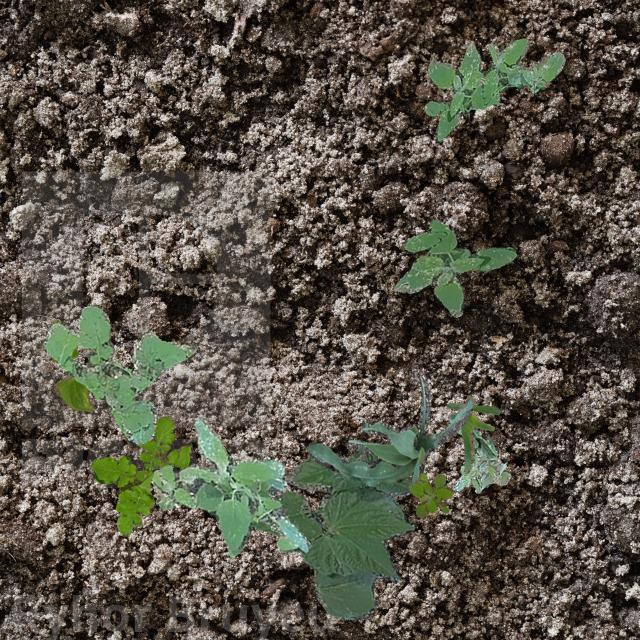crop: (250, 451, 414, 618), (304, 374, 473, 484), (446, 394, 500, 472), (49, 318, 92, 411), (448, 412, 497, 458)
weed: (150, 416, 310, 556), (42, 306, 194, 444), (422, 38, 564, 140), (392, 218, 516, 316), (90, 416, 190, 534), (452, 454, 509, 492), (408, 472, 452, 516)
